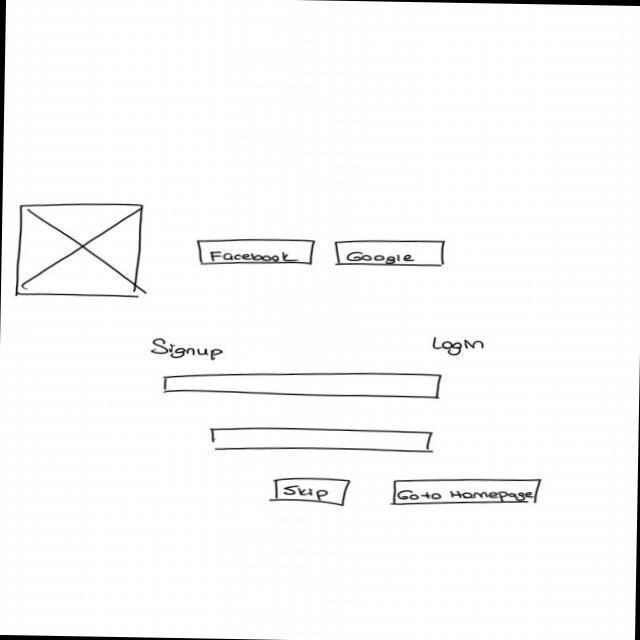button: (389, 475, 546, 510), (195, 237, 318, 269), (334, 238, 448, 269), (272, 476, 353, 508)
image: (11, 202, 147, 301)
input: (162, 368, 445, 402), (209, 426, 438, 455)
label: (149, 337, 228, 362), (432, 336, 489, 358)
